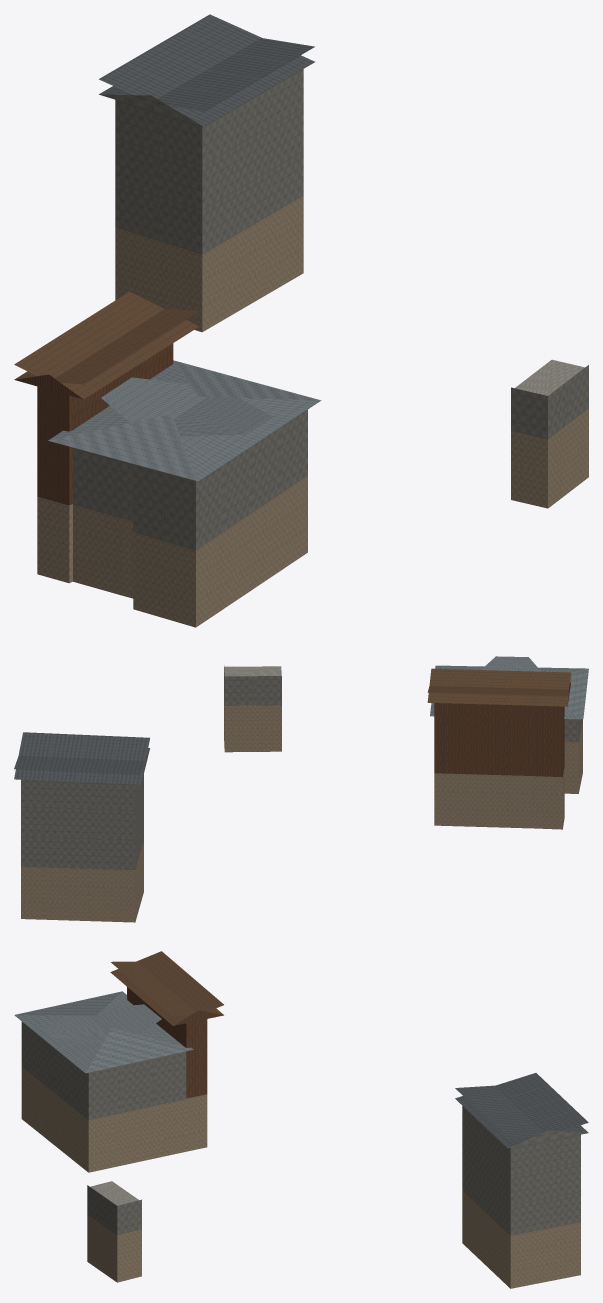
The model's file is bld_c18_29_378.gltf.
The picture shows the model from 3 angles, top to bottom: view 1: azimuth 30°, elevation 25°; view 2: azimuth 150°, elevation 25°; view 3: azimuth 270°, elevation 25°; orthographic projection. The views are drawn at different scales.
Parts seen in each view (by area): view 1: bld_c18_29_378; view 2: bld_c18_29_378; view 3: bld_c18_29_378.
Part boxes in pixels (<box>): bld_c18_29_378: <box>14,14,588,627</box>; bld_c18_29_378: <box>14,656,588,922</box>; bld_c18_29_378: <box>14,951,588,1288</box>.
Size of the model in its own units: 38.09 by 15 by 50.07.
9 materials, 9 textured.
